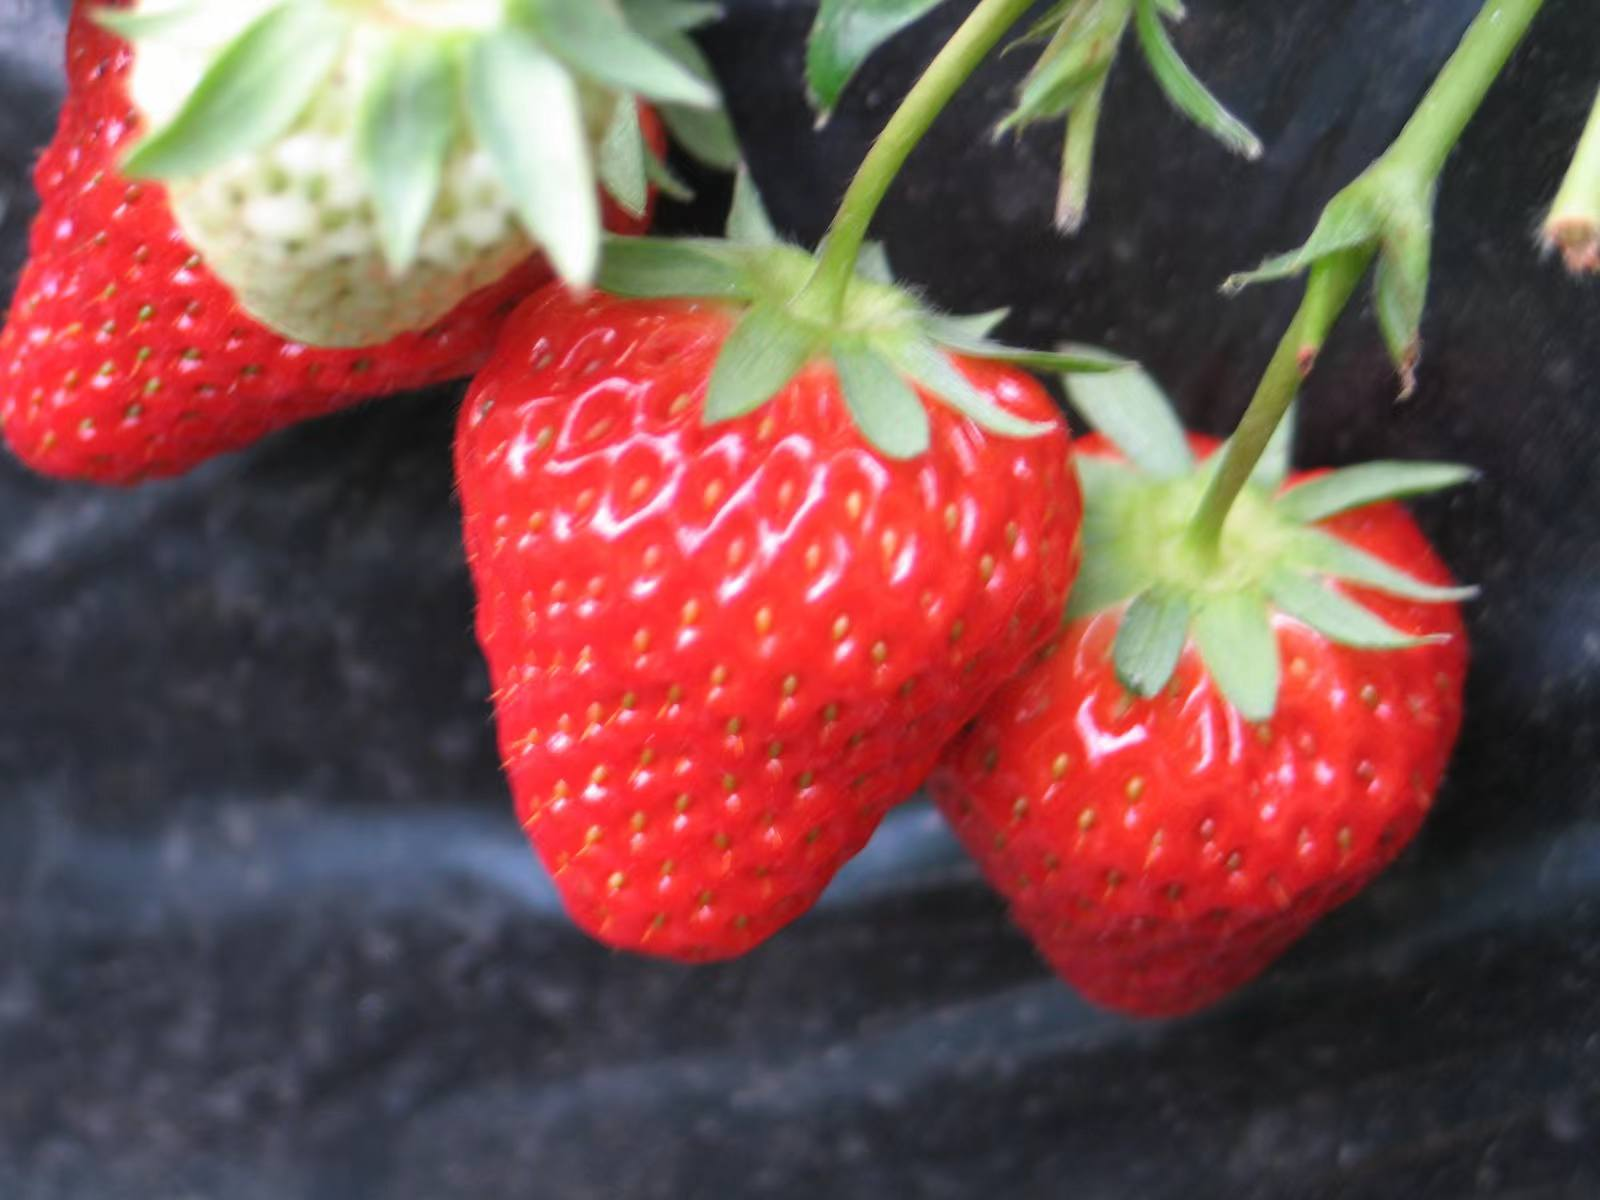StrawberryCone: (450, 250, 1123, 978), (939, 416, 1482, 1020), (6, 13, 670, 494)
StrawberryIrremovable: (144, 8, 562, 355)
StrawberryRemovable: (460, 258, 1114, 971), (942, 424, 1468, 1016), (13, 16, 666, 482)
